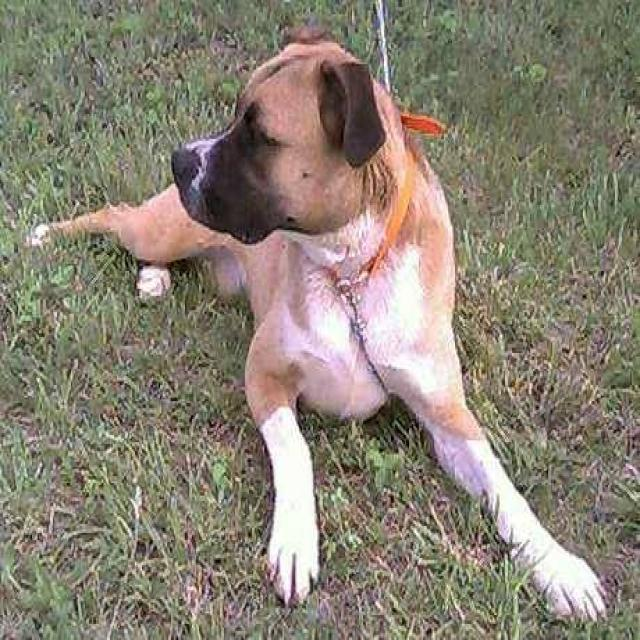dog: (24, 23, 606, 624)
